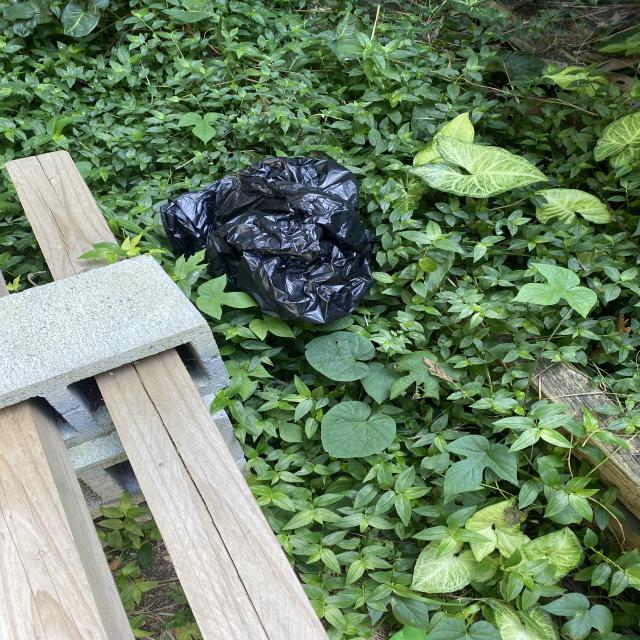bag: (169, 149, 375, 327)
